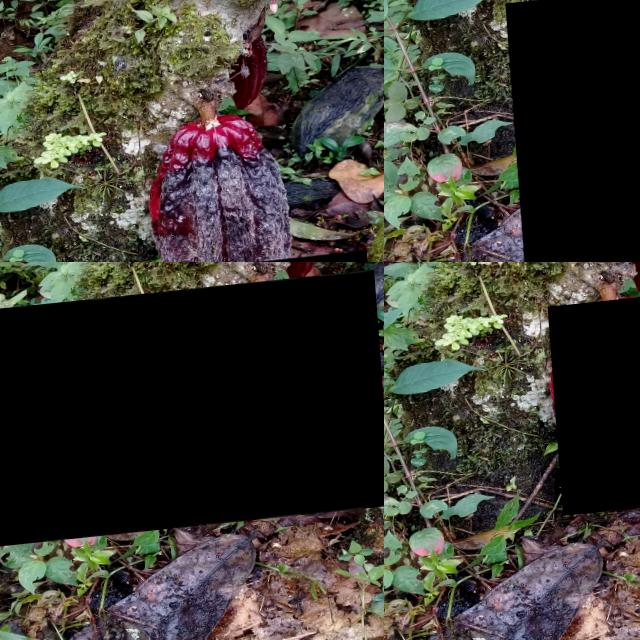Fitoftora: (544, 301, 640, 521)
Monilia: (0, 279, 384, 548), (500, 0, 640, 262)
